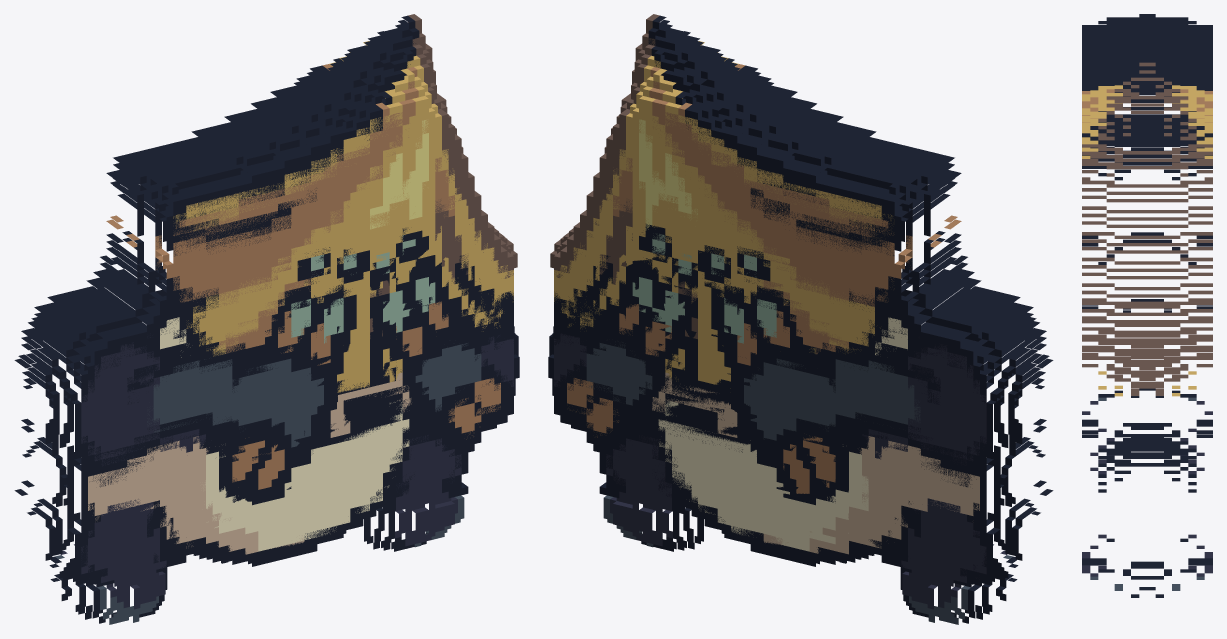
Rendered from guardiao_panda.glb.
The picture shows the model from 3 angles, left to right: view 1: azimuth 30°, elevation 25°; view 2: azimuth 150°, elevation 25°; view 3: azimuth 270°, elevation 25°; orthographic projection. The views are drawn at different scales.
Visible parts, largest first — view 1: q0, q1, q2, q4, q3, q6, q5; view 2: q0, q1, q2, q4, q3, q6, q5; view 3: q0, q2, q1, q6, q3, q4, q5.
Boxes of the visible parts, x1,y1,x2,y2 form: q0: (21, 14, 519, 624); q1: (94, 22, 517, 448); q2: (14, 31, 519, 516); q4: (114, 155, 515, 566); q3: (14, 181, 519, 599); q6: (21, 76, 513, 600); q5: (124, 137, 507, 458); q0: (548, 14, 1046, 624); q1: (550, 22, 973, 447); q2: (548, 31, 1053, 517); q4: (552, 209, 945, 566); q3: (548, 173, 1053, 601); q6: (554, 76, 1046, 600); q5: (560, 137, 943, 453); q0: (1082, 17, 1212, 597); q2: (1082, 74, 1212, 485); q1: (1082, 14, 1212, 437); q6: (1082, 34, 1212, 561); q3: (1082, 114, 1212, 579); q4: (1082, 438, 1212, 565); q5: (1083, 213, 1188, 381).
Bounding box in the file's own units: 72 × 76 × 16.
Materials: 1 (1 with a texture image).
